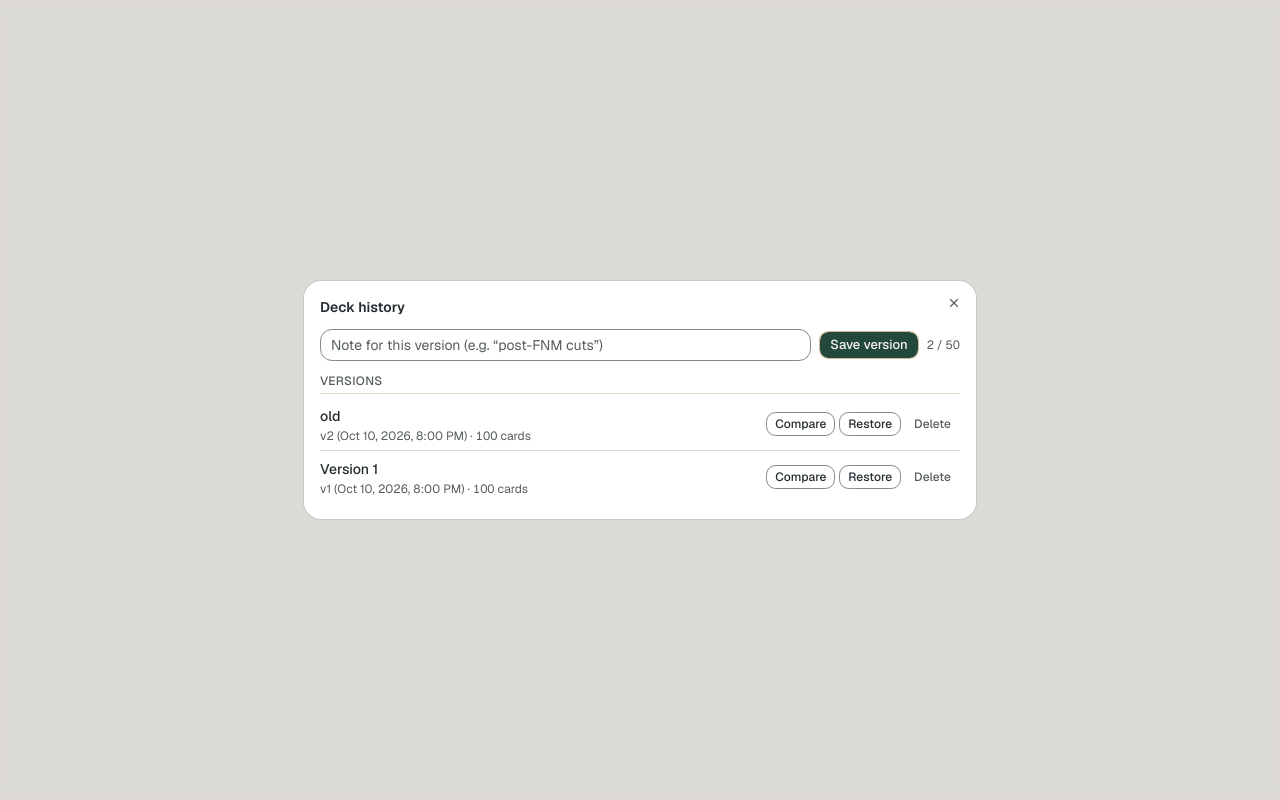
Test: HistoryDialog — Compare, Restore, Delete › Delete asks first, then deletes and says so
The width and height of the screenshot is (1280, 800).
Expected: the dialog "Deck history" shows "old", [320,407,340,425]
Click the button with aria-label "Delete version 2".
click(933, 424)  # box [905,412,960,436]
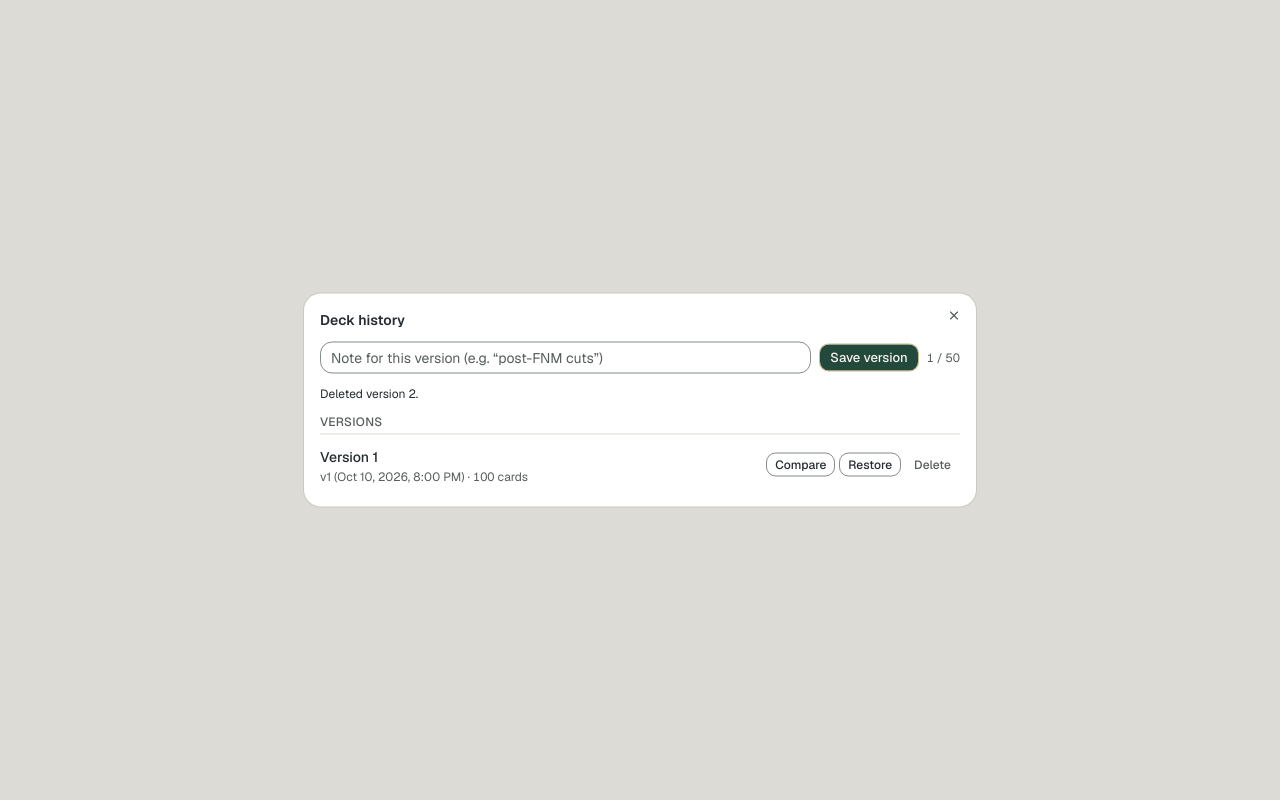
Now the dialog "Deck history" shows "Deleted version 2.", box [320,386,418,402]
Now the number of list items is 1, box [320,438,960,490]
